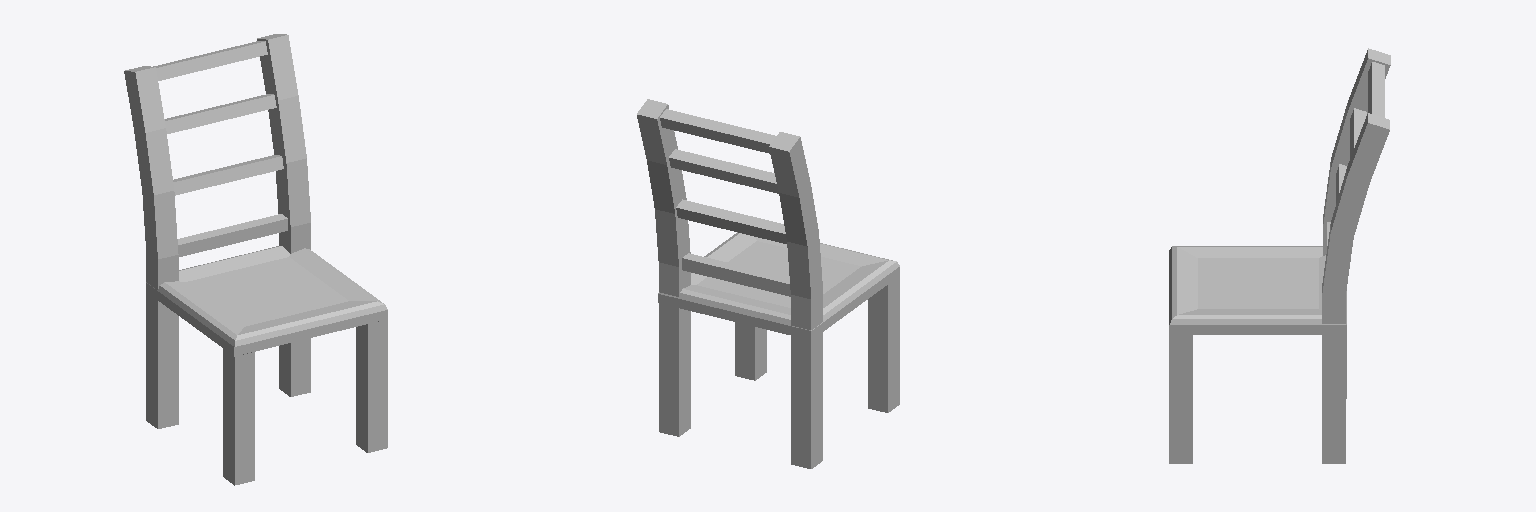
File: chair.obj
3 renders of one model, left to right at view 1: azimuth 30°, elevation 25°; view 2: azimuth 150°, elevation 25°; view 3: azimuth 270°, elevation 25°, orthographic.
Visible parts, largest first — view 1: Chair; view 2: Chair; view 3: Chair.
Boxes of the visible parts, x1=… form: Chair: x1=124, y1=34, x2=387, y2=485; Chair: x1=637, y1=99, x2=899, y2=468; Chair: x1=1169, y1=48, x2=1390, y2=463.
Size of the model in its own units: 0.7471 by 1.59 by 0.9324.